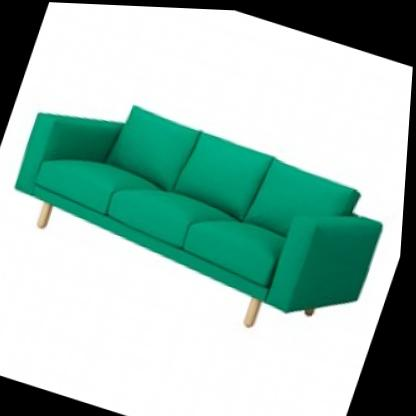Sofa: (0, 17, 415, 370)
